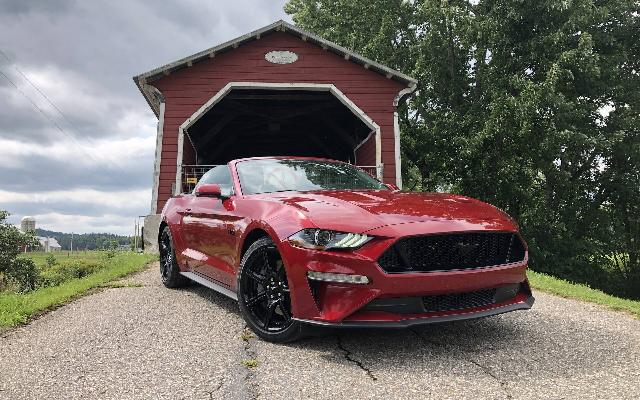ford-mustang: (157, 156, 535, 342)
